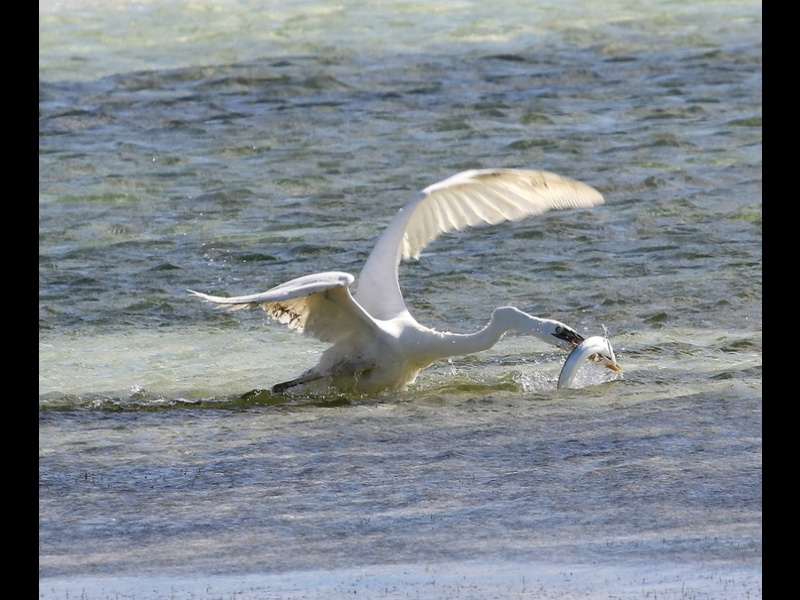heron: (184, 163, 621, 396)
